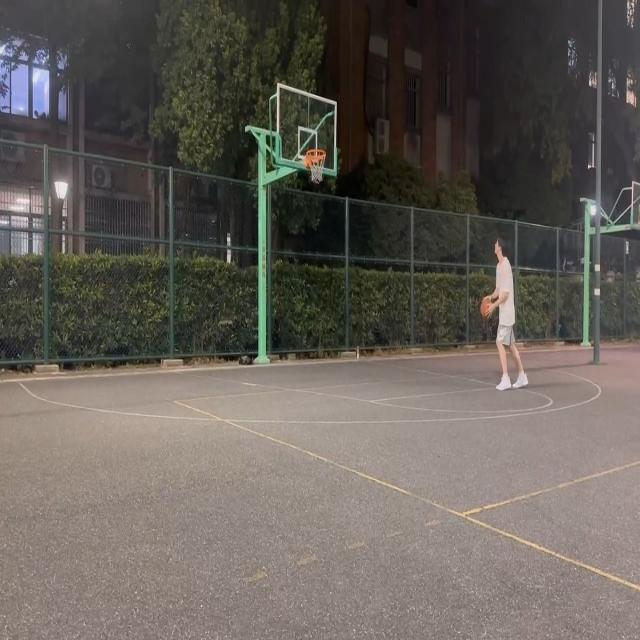basketball: (306, 148, 326, 184)
rim: (480, 298, 492, 320)
